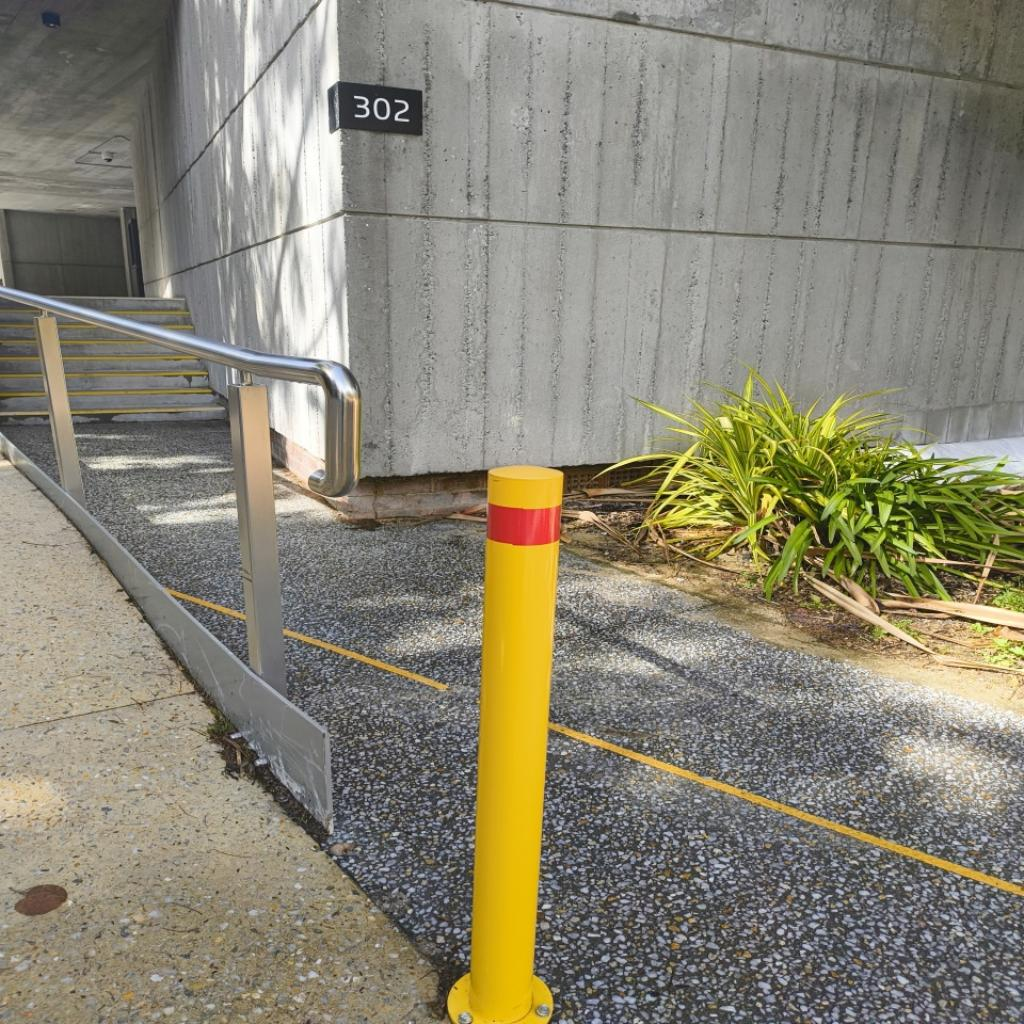BuildingCodes: (350, 94, 414, 124)
